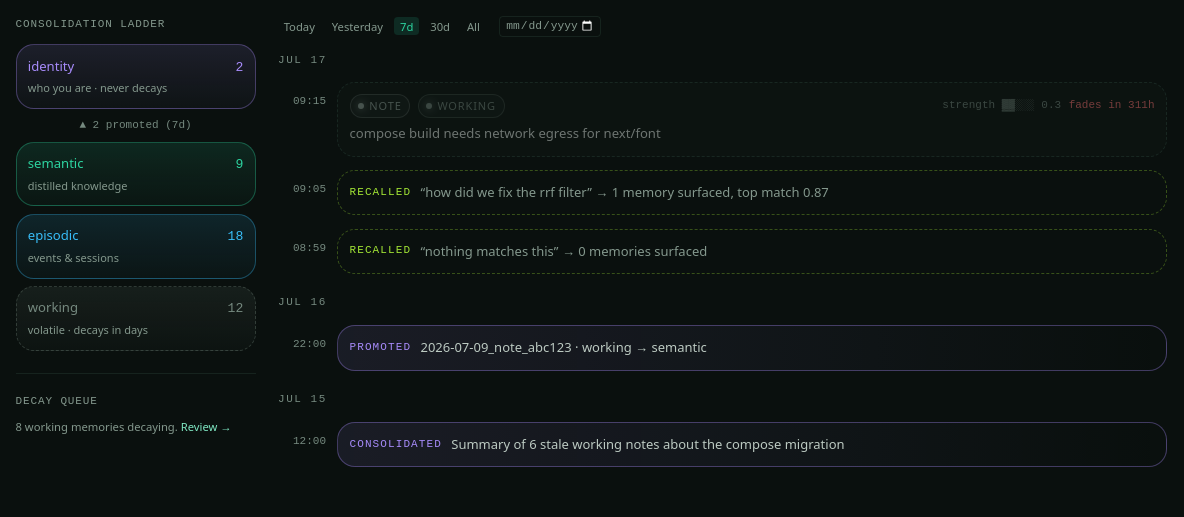
Test: StreamPage — range selection › honest notice appears only when the range reaches past event_window.oldest_at
Click the button "All": (473, 26) [461,17,486,35]
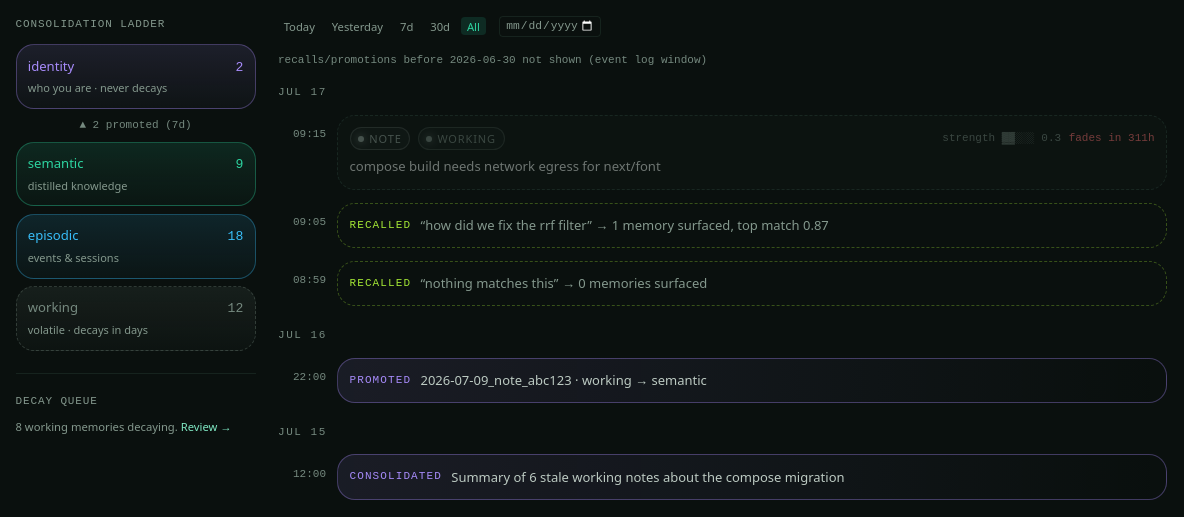
Expected: the text "recalls/promotions before 2026-06-30 not shown (event log window)" is shown, [278,54,707,66]
